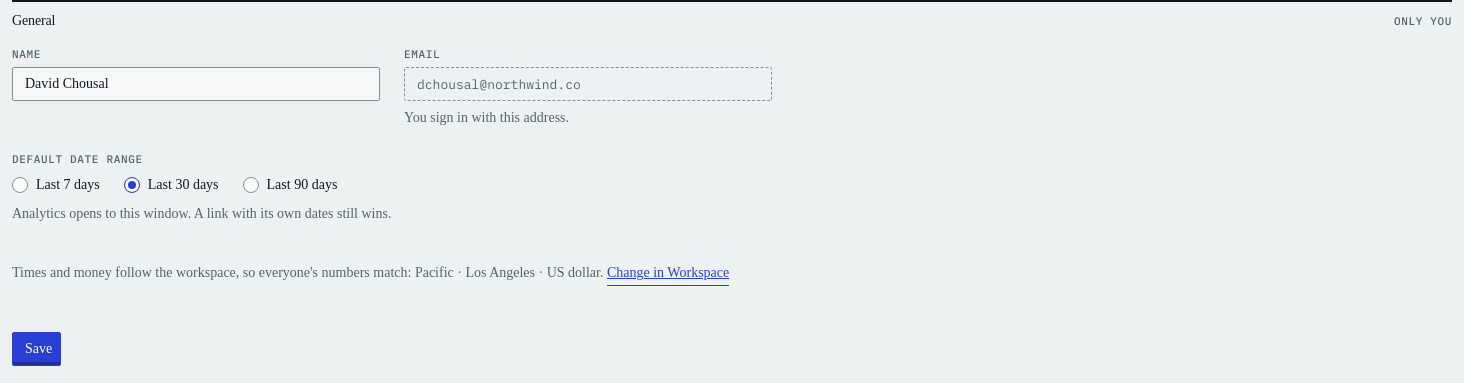
Test: GeneralForm › saves the name and default range, then says Saved
Replace the text in the field labelled "Name" with "David C.". click: (196, 84)
box: [12, 67, 380, 101]
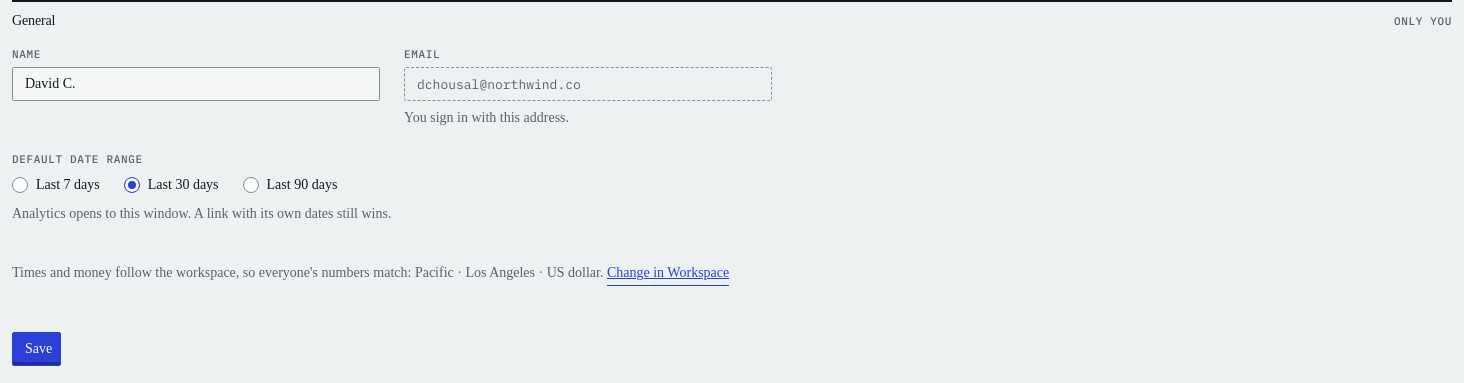
Click the radio button labelled "Last 7 days". click: (20, 184)
box: [12, 176, 28, 192]
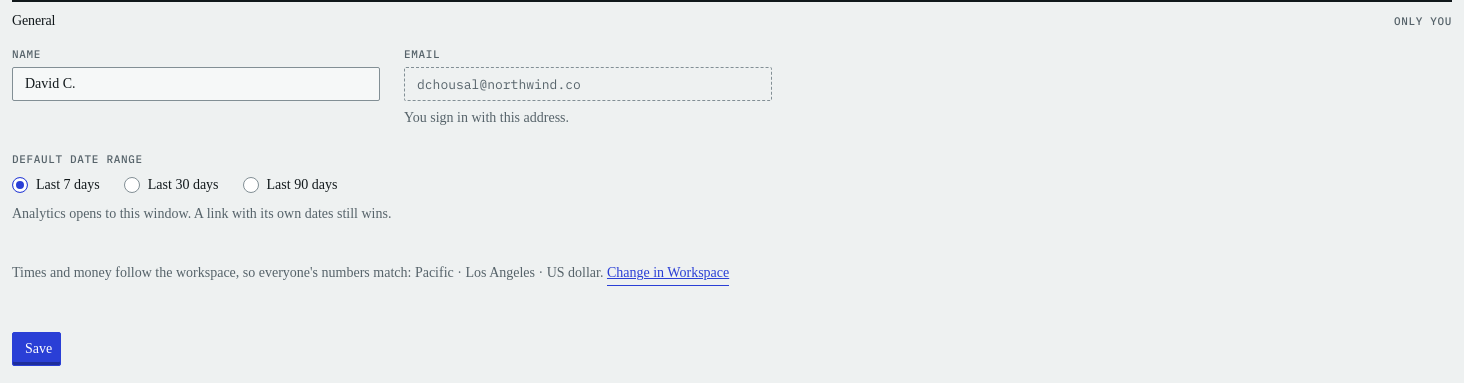
Click the button "Save". click: (37, 349)
box: [12, 332, 61, 366]
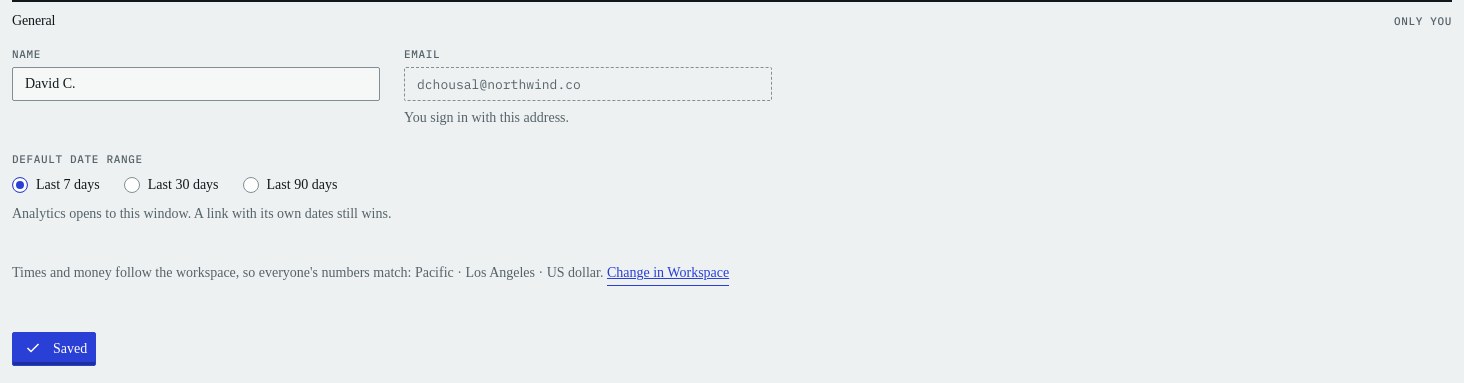
Check: the button "Saved" is shown, box [12, 332, 96, 366]
